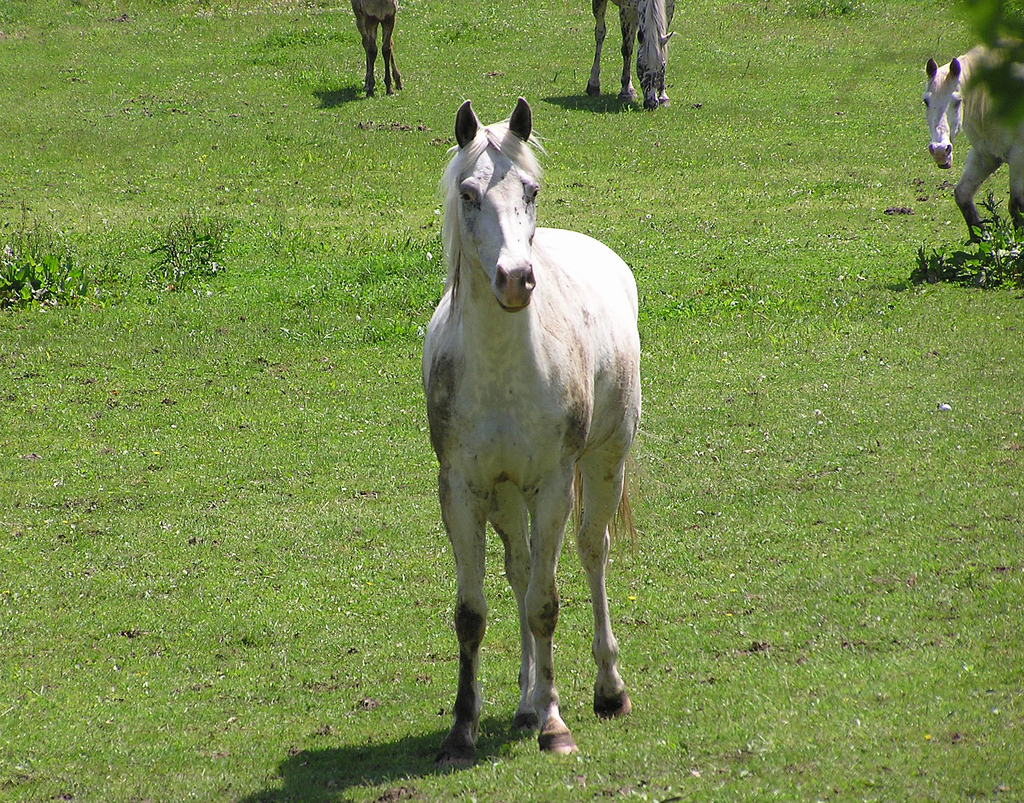horse: (417, 97, 674, 770)
